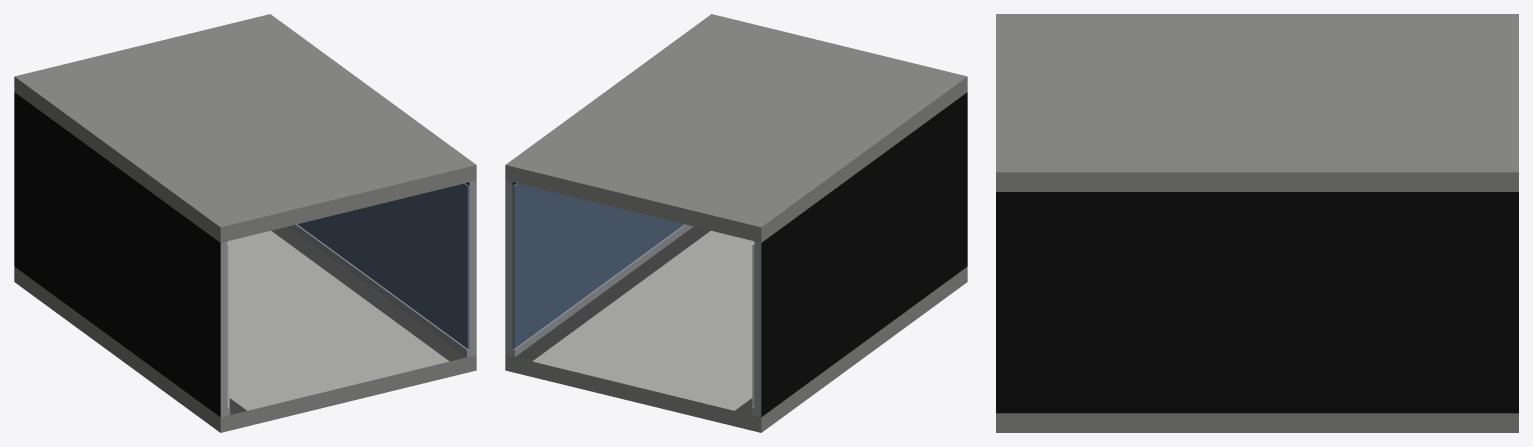
The model's file is gteki_passage_straight_w4_l6_tile.glb.
3 views of the same model, side by side, from view 1: azimuth 30°, elevation 25°; view 2: azimuth 150°, elevation 25°; view 3: azimuth 270°, elevation 25° (orthographic). The views are drawn at different scales.
Parts seen in each view (by area): view 1: VIS_body; view 2: VIS_body; view 3: VIS_body.
Boxes of the visible parts, x1,y1,x2,y2 form: VIS_body: (14, 14, 476, 432); VIS_body: (505, 14, 967, 432); VIS_body: (996, 14, 1518, 432).
Size of what is drawn, in the model's own units: 4.3 by 3.3 by 6.
1 material, 1 textured.
